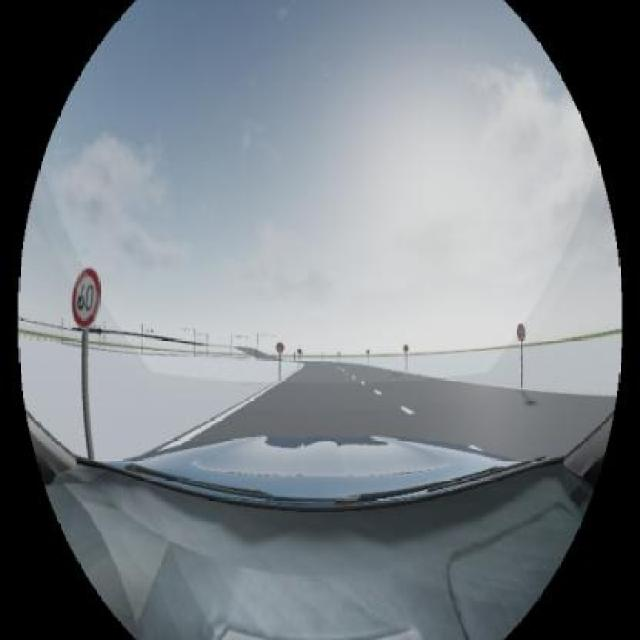forb_speed_over_60: (72, 268, 101, 328)
